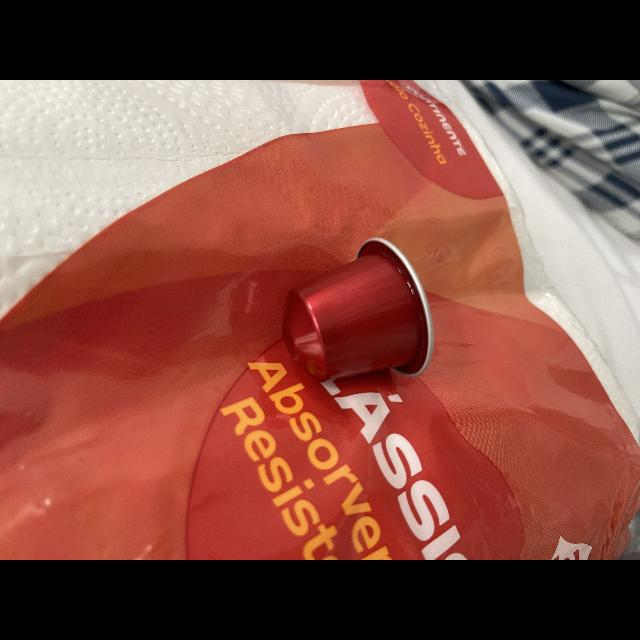intact_capsule: (264, 232, 448, 404)
